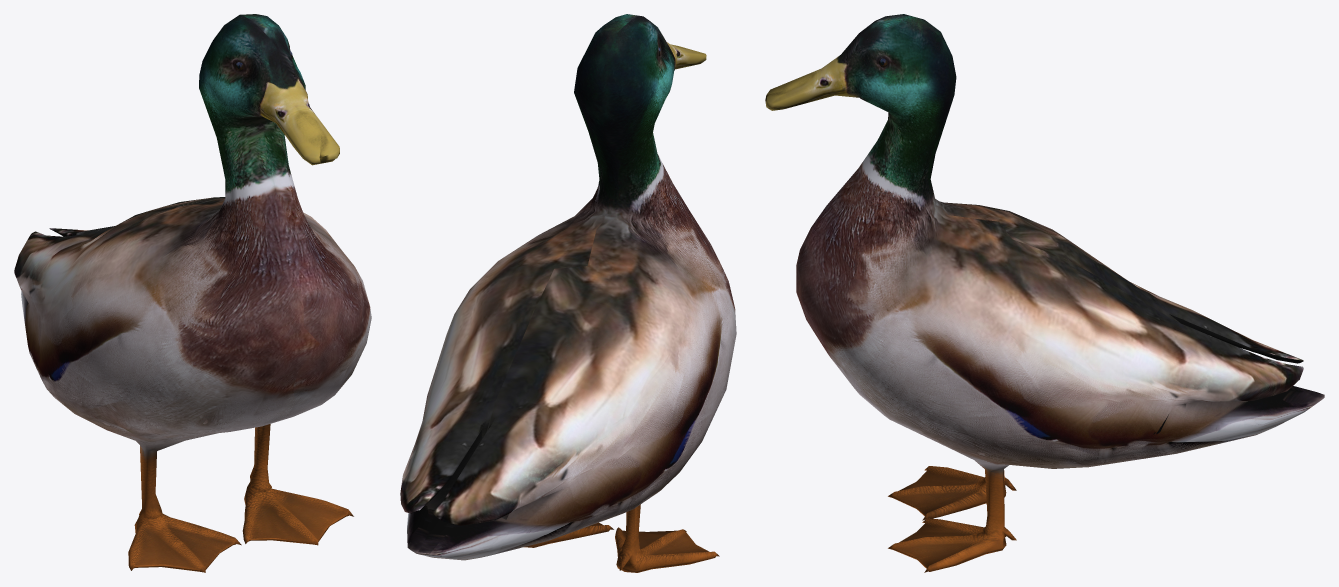
Rendered from duck.fbx.
The picture shows the model from 3 angles, left to right: view 1: azimuth 30°, elevation 25°; view 2: azimuth 150°, elevation 25°; view 3: azimuth 270°, elevation 25°; orthographic projection. The views are drawn at different scales.
Parts seen in each view (by area): view 1: 12248_Bird_v1_L2; view 2: 12248_Bird_v1_L2; view 3: 12248_Bird_v1_L2.
Part boxes in pixels (x1,y1,x2,y2): 12248_Bird_v1_L2: (14, 14, 371, 572); 12248_Bird_v1_L2: (400, 14, 736, 572); 12248_Bird_v1_L2: (765, 14, 1324, 572).
Size of the model in its own units: 28.5 by 56.48 by 56.51.
Materials: 1 (1 with a texture image).
